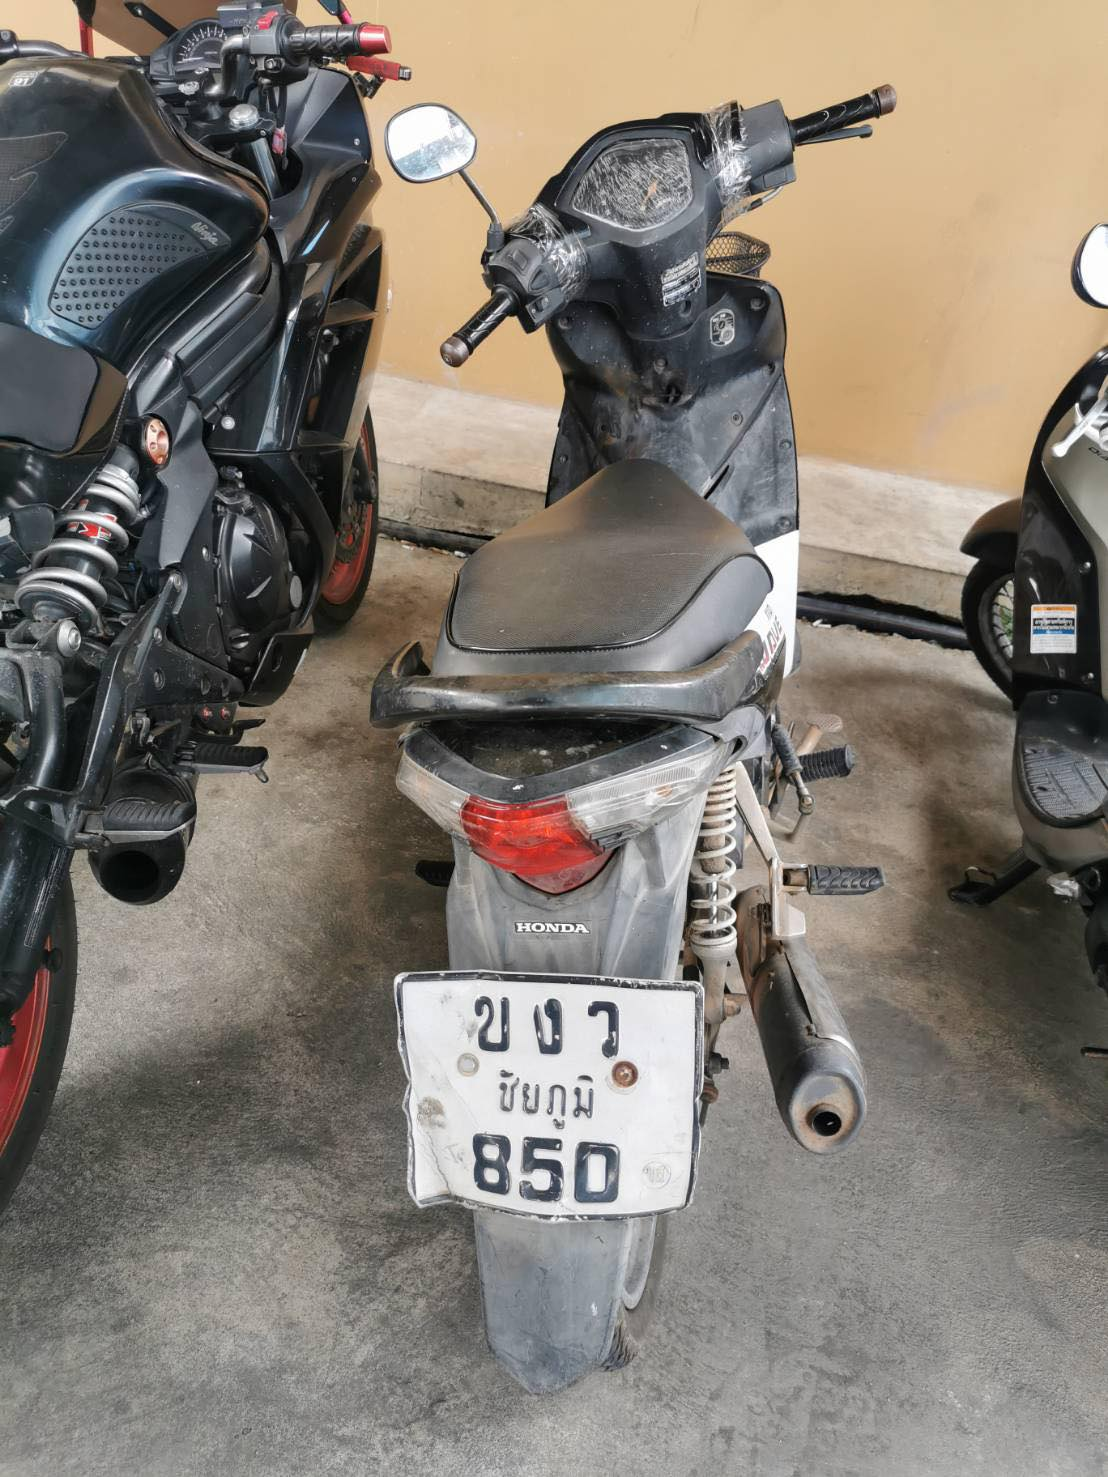line1: (461, 988, 641, 1072)
line2: (482, 1068, 608, 1134)
line3: (464, 1127, 627, 1217)
